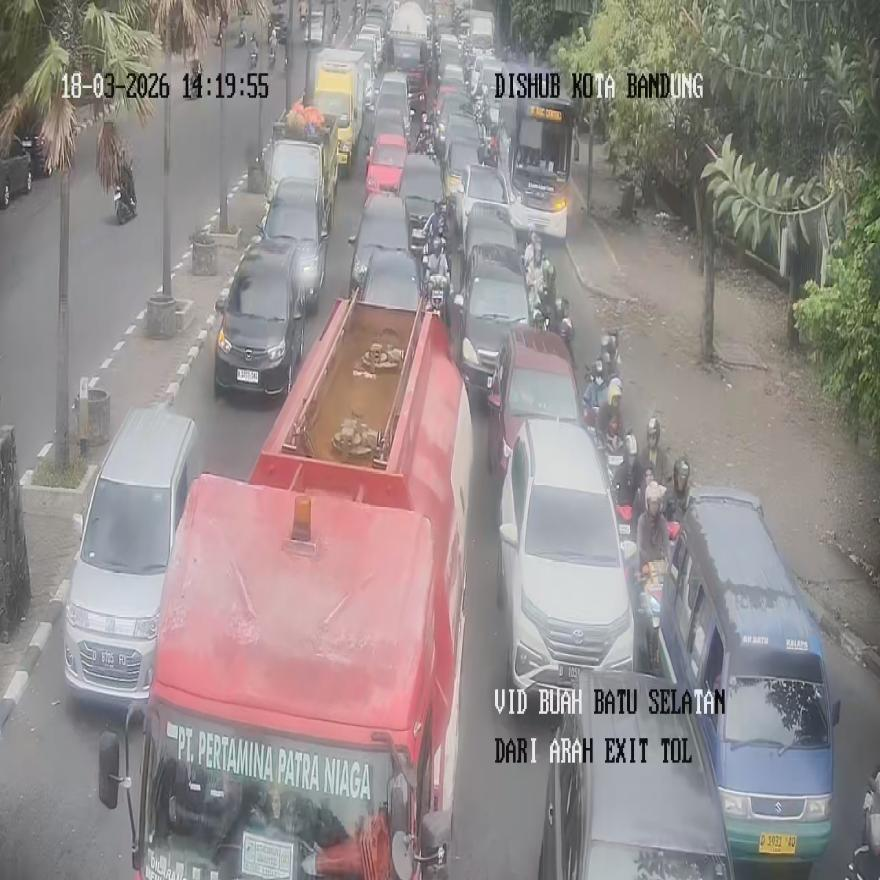Mobil: (657, 485, 840, 875), (497, 416, 639, 710), (538, 666, 734, 878), (63, 404, 197, 706), (212, 237, 306, 400), (485, 325, 583, 477)
Motor: (845, 770, 880, 879), (636, 558, 664, 674), (113, 162, 137, 224), (184, 57, 201, 99), (248, 39, 258, 70)
Truk: (97, 289, 472, 876)
